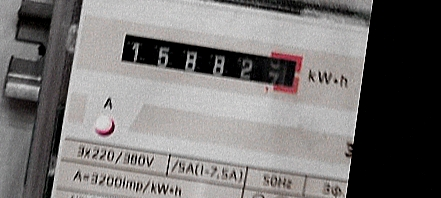1: (127, 39, 144, 63)
2: (237, 56, 256, 82)
5: (155, 43, 172, 70)
7: (267, 67, 281, 86)
8: (210, 52, 227, 78), (182, 49, 199, 73)
screen: (110, 23, 313, 104)
